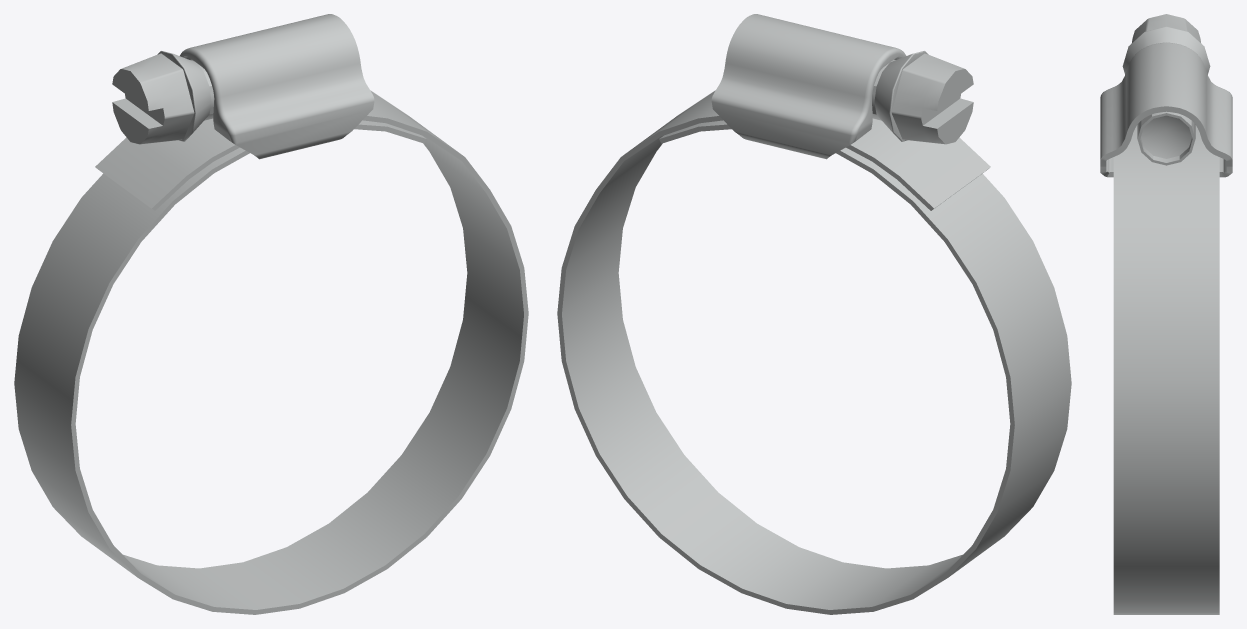
The model's file is KLEM.fbx.
3 renders of one model, left to right at view 1: azimuth 30°, elevation 25°; view 2: azimuth 150°, elevation 25°; view 3: azimuth 270°, elevation 25°, orthographic. The views are drawn at different scales.
Parts seen in each view (by area): view 1: KLEM, KLEM.001, KLEM.002; view 2: KLEM, KLEM.001, KLEM.002; view 3: KLEM, KLEM.001, KLEM.002.
Part boxes in pixels (box(x1,y1,x2,y2)): KLEM: box(14, 90, 528, 614); KLEM.001: box(180, 14, 374, 159); KLEM.002: box(112, 51, 214, 144); KLEM: box(557, 90, 1071, 614); KLEM.001: box(711, 14, 906, 159); KLEM.002: box(872, 51, 973, 144); KLEM: box(1113, 125, 1219, 614); KLEM.001: box(1100, 42, 1232, 177); KLEM.002: box(1122, 14, 1210, 165).
Size of the model in its own units: 16.16 by 18.83 by 4.34.
Materials: 1 (1 with a texture image).
